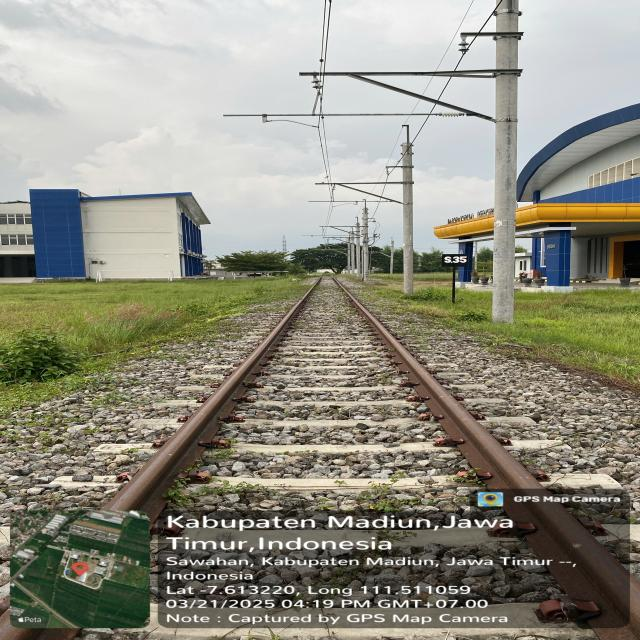rail-detection: (103, 291, 309, 525), (340, 285, 544, 495), (525, 507, 637, 622)
